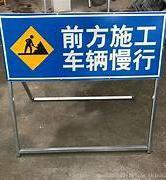sign: (1, 14, 165, 80)
